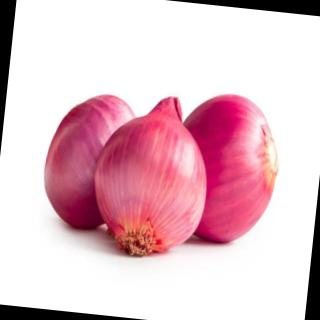Bawang Merah: (86, 88, 219, 265)
